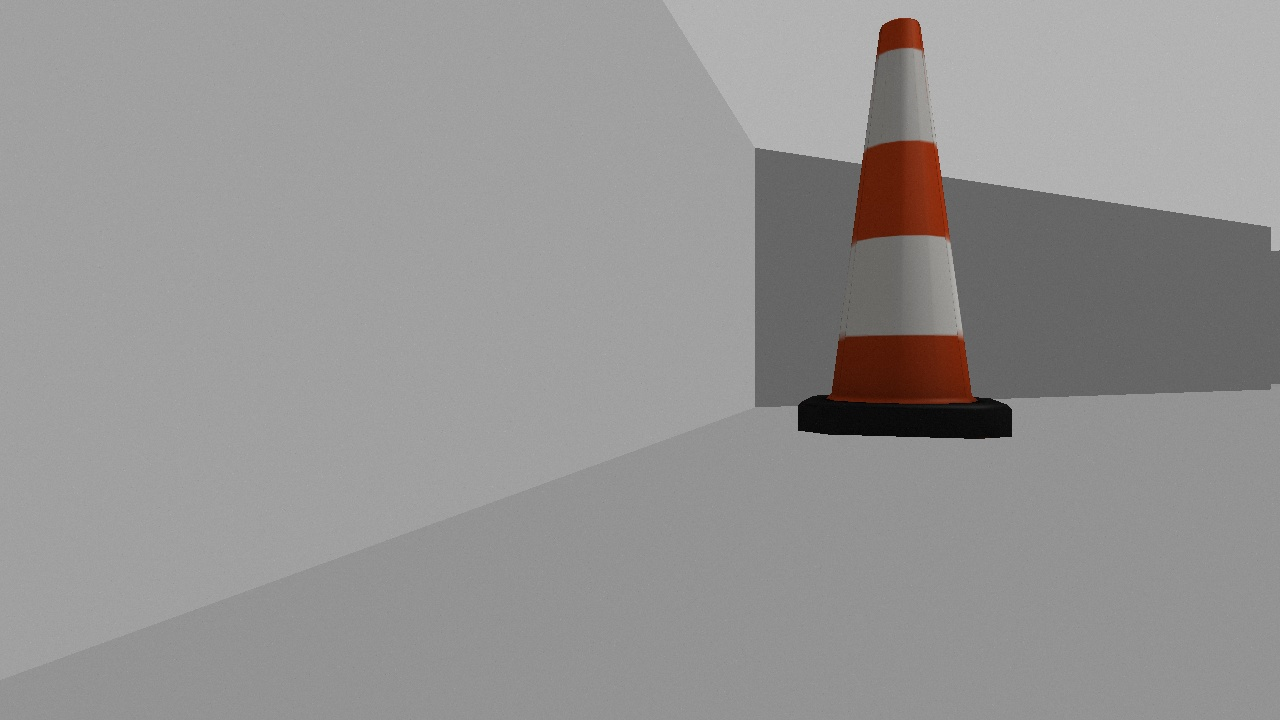barricade: (796, 17, 1013, 439)
